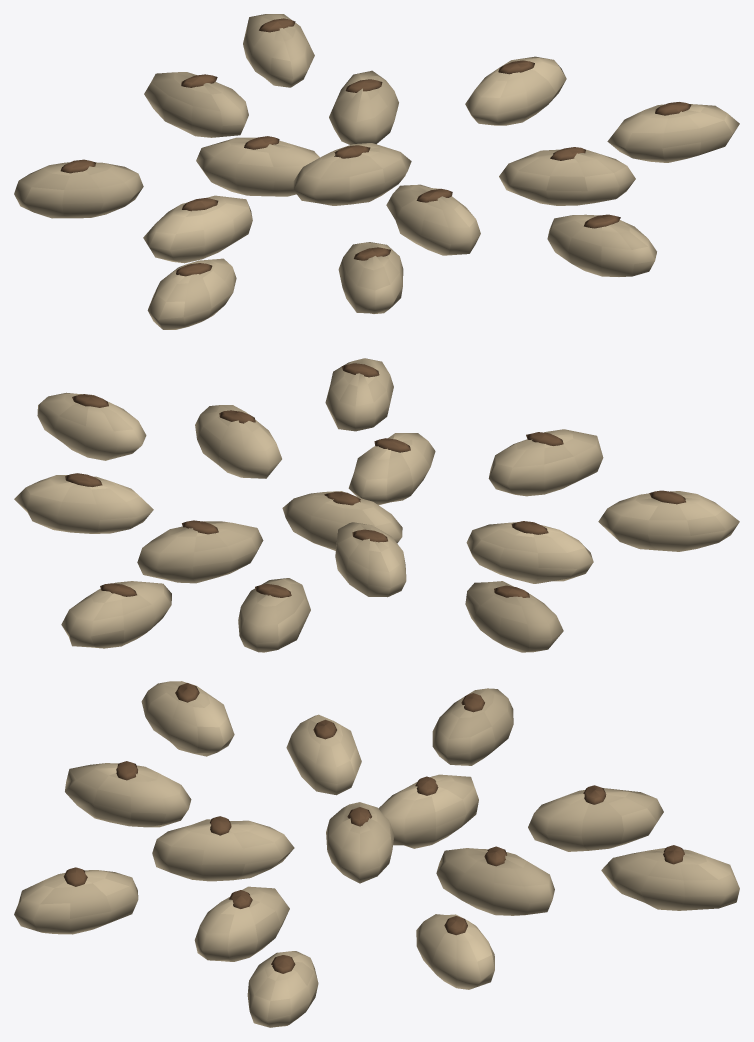
The model's file is BlackEyedPeas.glb.
The picture shows the model from 3 angles, top to bottom: view 1: azimuth 30°, elevation 25°; view 2: azimuth 150°, elevation 25°; view 3: azimuth 270°, elevation 25°; orthographic projection. The views are drawn at different scales.
Visible parts, largest first — view 1: BlackEyedPeas; view 2: BlackEyedPeas; view 3: BlackEyedPeas.
Boxes of the visible parts, left/top/right/bottom form: BlackEyedPeas: left=14, top=14, right=739, bottom=329; BlackEyedPeas: left=14, top=358, right=739, bottom=652; BlackEyedPeas: left=14, top=681, right=739, bottom=1027.
Size of what is drawn, in the model's own units: 0.0651 by 0.00538 by 0.0606.
